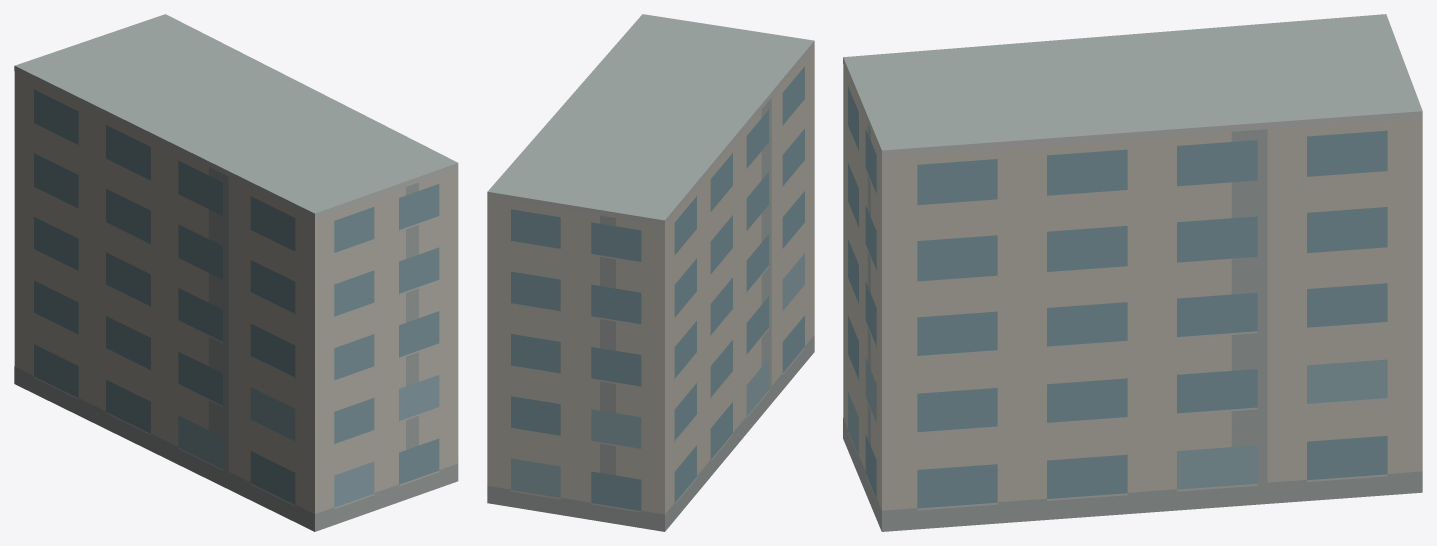
File: survey-upis-32762026.glb
3 renders of one model, left to right at view 1: azimuth 30°, elevation 25°; view 2: azimuth 150°, elevation 25°; view 3: azimuth 270°, elevation 25°, orthographic. The views are drawn at different scales.
Parts seen in each view (by area): view 1: survey-upis-32762026.tmp; view 2: survey-upis-32762026.tmp; view 3: survey-upis-32762026.tmp.
Part boxes in pixels (box(x1,y1,x2,y2)): survey-upis-32762026.tmp: box(14, 14, 458, 531); survey-upis-32762026.tmp: box(487, 14, 814, 531); survey-upis-32762026.tmp: box(843, 14, 1422, 531).
Size of the model in its own units: 10.6 by 13.8 by 19.02.
